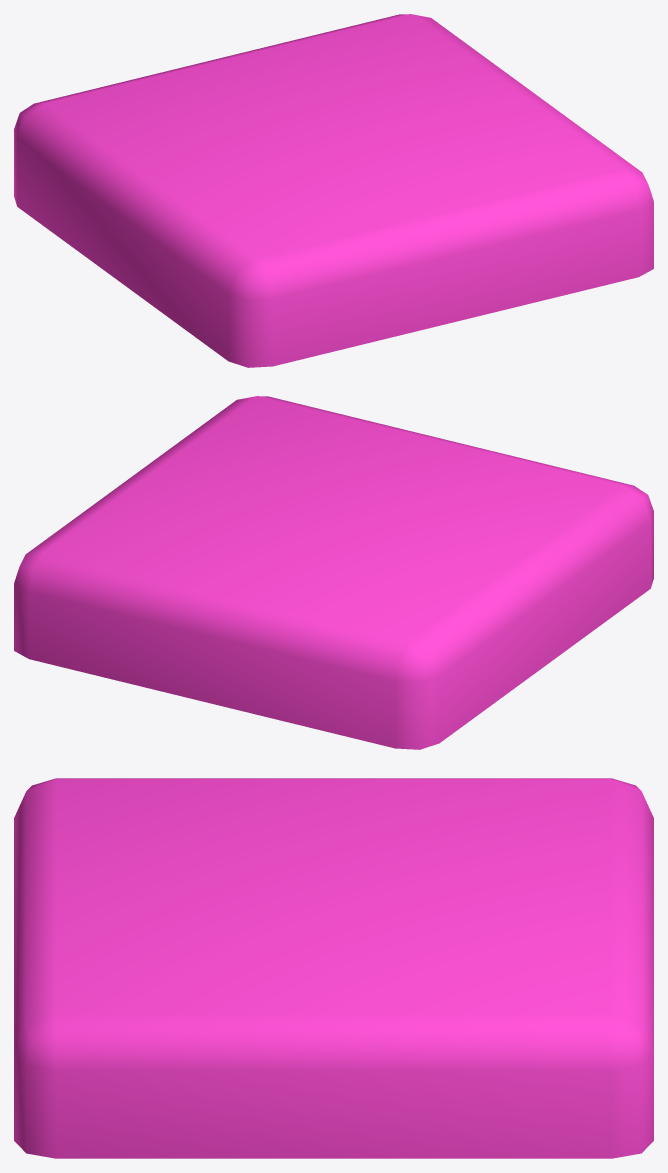
File: button_square_purple.glb
The picture shows the model from 3 angles, top to bottom: view 1: azimuth 30°, elevation 25°; view 2: azimuth 150°, elevation 25°; view 3: azimuth 270°, elevation 25°; orthographic projection. The views are drawn at different scales.
Visible parts, largest first — view 1: Squareutton.010; view 2: Squareutton.010; view 3: Squareutton.010.
Part boxes in pixels (x1,y1,x2,y2): Squareutton.010: [14, 14, 653, 367]; Squareutton.010: [14, 396, 653, 749]; Squareutton.010: [14, 778, 653, 1158].
Size of what is drawn, in the model's own units: 0.1845 by 0.0403 by 0.1845.
Materials: 1 (1 with a texture image).
